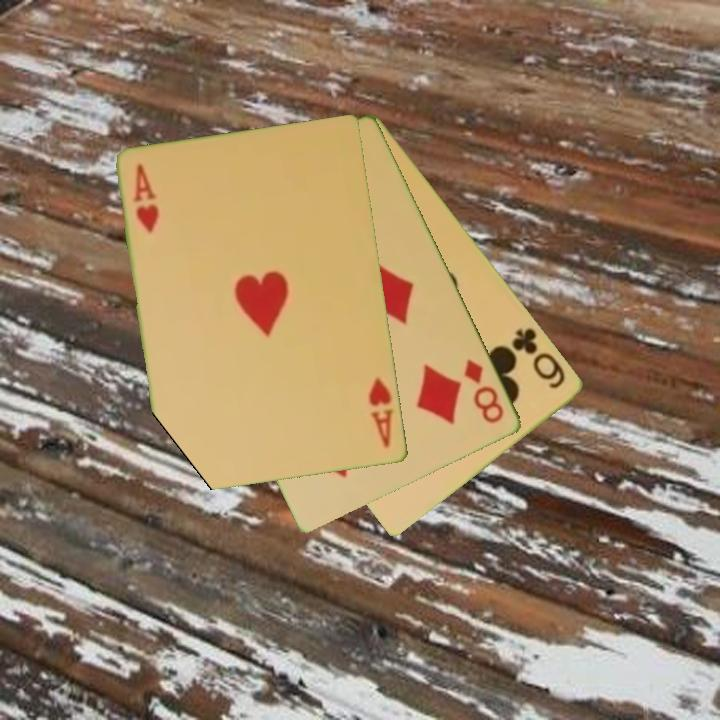6c: (508, 324, 569, 392)
8d: (460, 355, 507, 427)
Ah: (129, 161, 162, 237), (365, 373, 396, 451)
